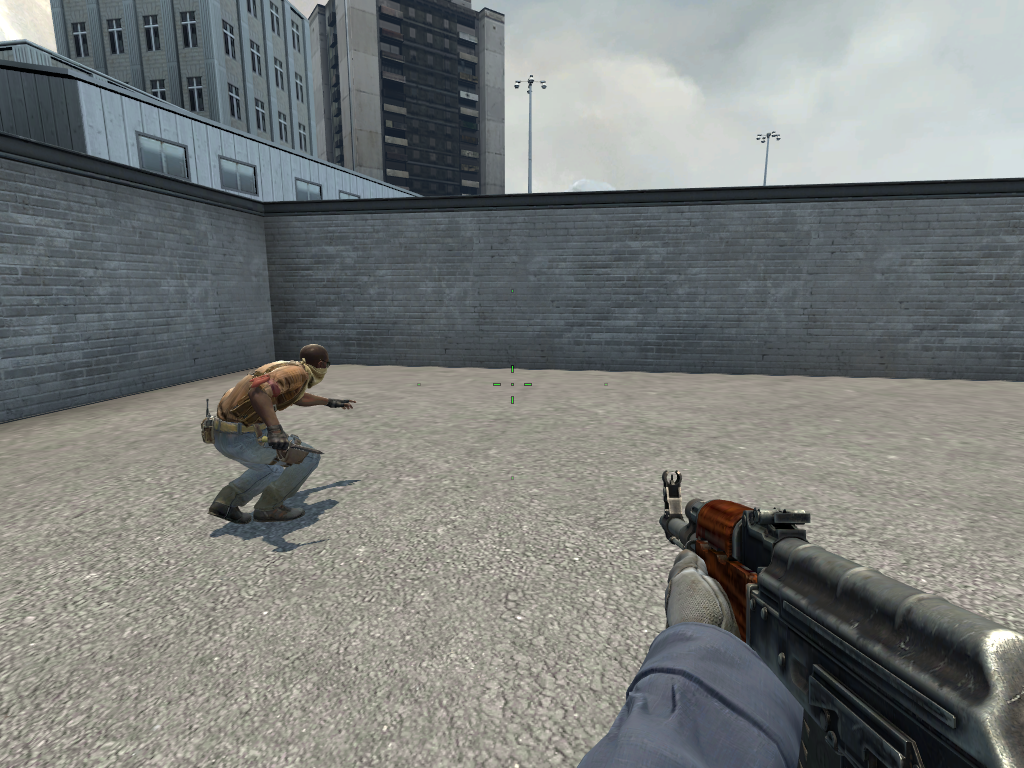tr head: (295, 340, 334, 386)
